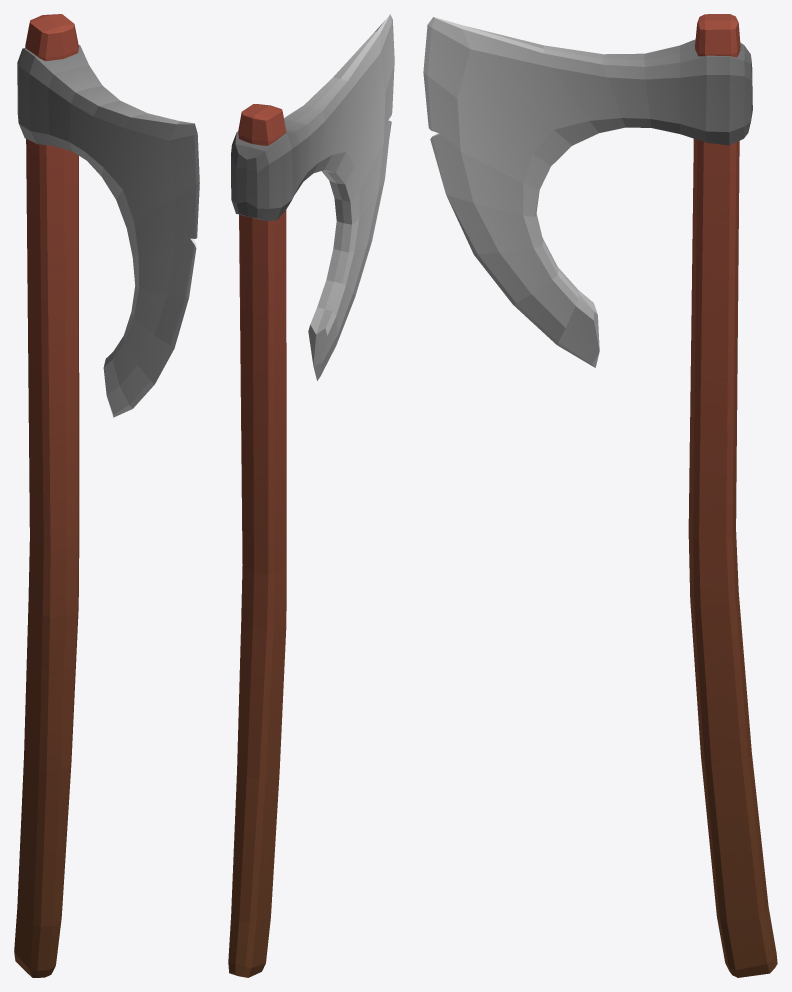
The model's file is TwohandAxe.fbx.
The picture shows the model from 3 angles, left to right: view 1: azimuth 30°, elevation 25°; view 2: azimuth 150°, elevation 25°; view 3: azimuth 270°, elevation 25°; orthographic projection. The views are drawn at different scales.
Parts seen in each view (by area): view 1: TwohandAxe; view 2: TwohandAxe; view 3: TwohandAxe.
Part boxes in pixels (left/top/right/bottom): TwohandAxe: left=14, top=14, right=199, bottom=977; TwohandAxe: left=228, top=14, right=394, bottom=977; TwohandAxe: left=423, top=14, right=777, bottom=977.
Size of the model in its own units: 0.0584 by 0.9488 by 0.318.
